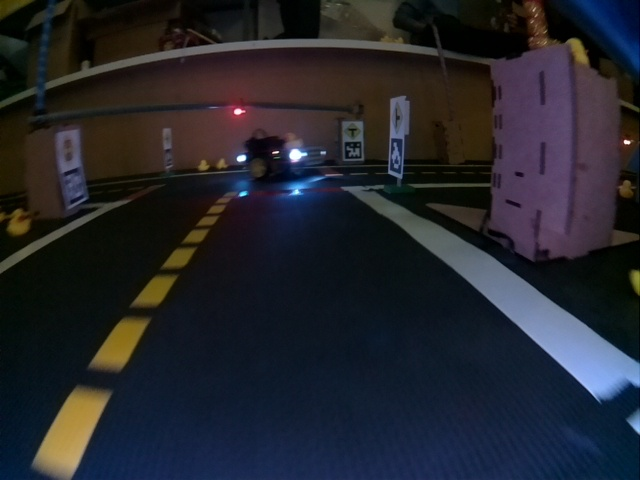Duckie: (9, 212, 29, 235), (284, 133, 304, 149), (619, 180, 633, 198), (217, 159, 227, 166), (200, 161, 208, 168)
Duckiebot: (242, 136, 321, 178)
Intersection sign: (391, 101, 403, 135), (343, 122, 362, 139), (163, 129, 172, 146)
QR code: (62, 166, 87, 207), (389, 137, 404, 175), (345, 143, 363, 159), (165, 149, 174, 168)
Signal sign: (60, 133, 78, 163)
Traffic light: (233, 100, 246, 117)
